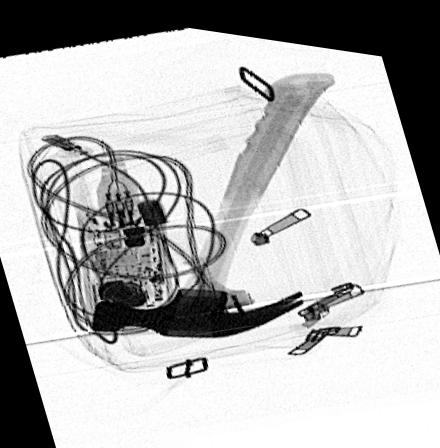Hammer: (92, 61, 336, 331)
